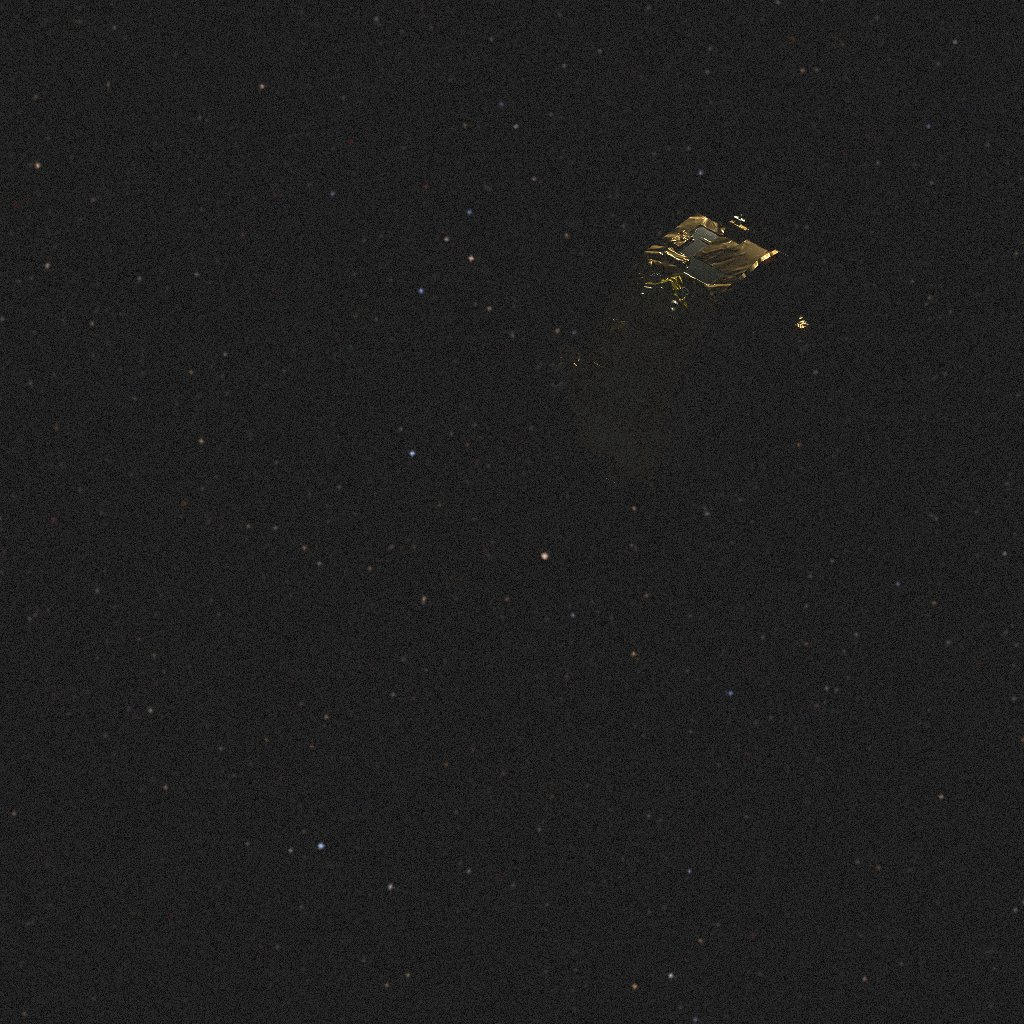lisa_pathfinder: (550, 212, 811, 507)
